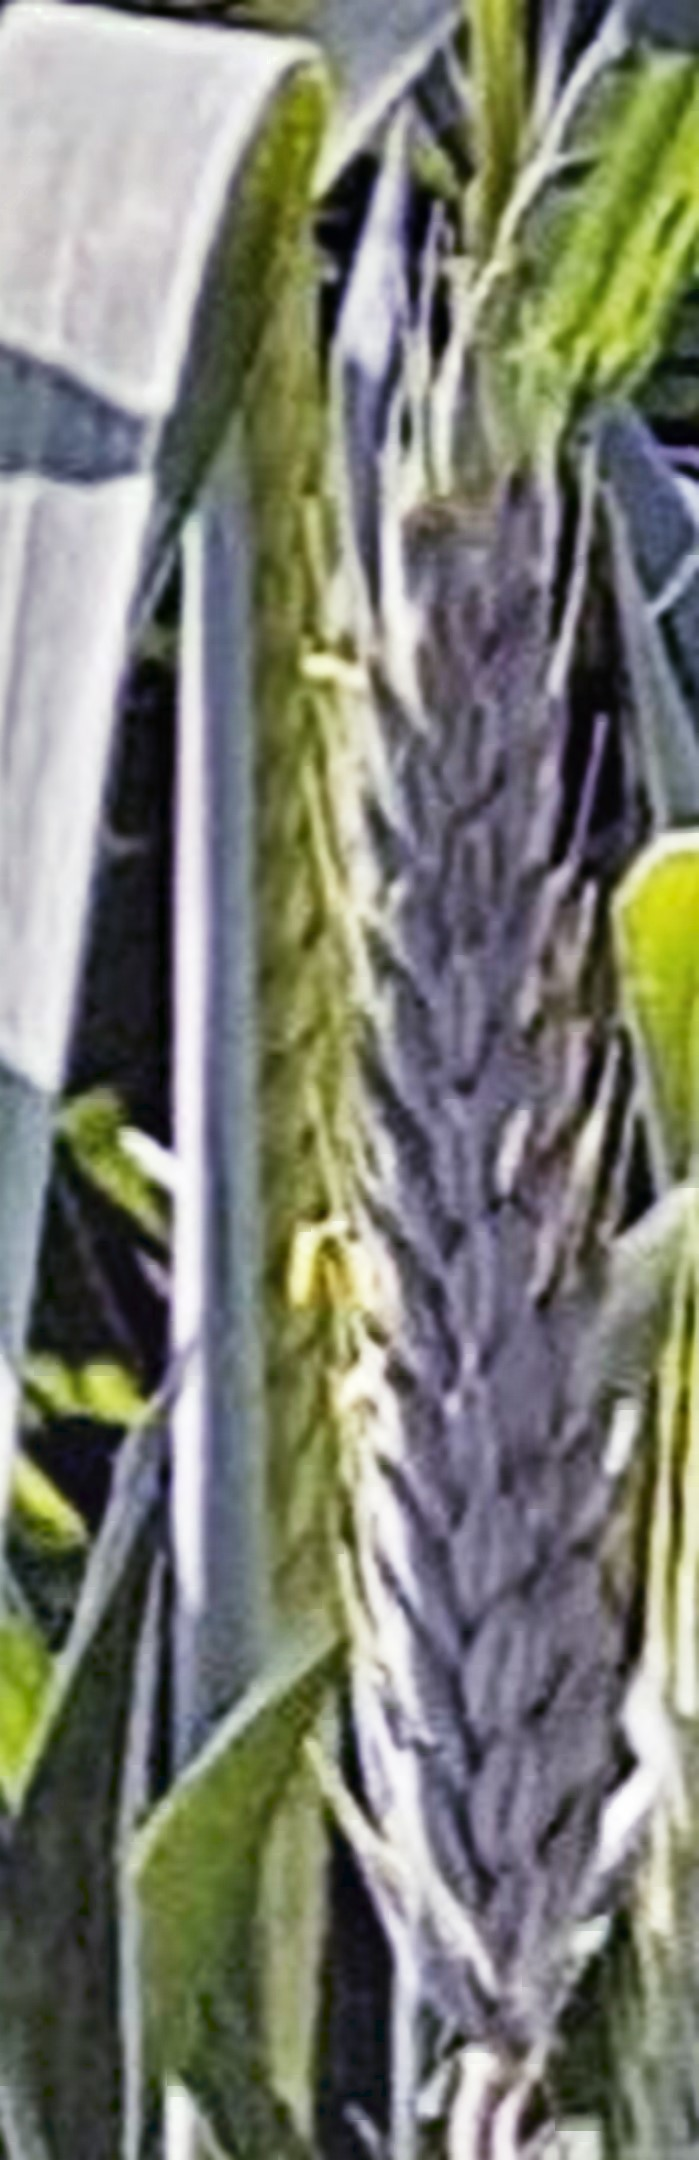Healthy Wheat: (336, 484, 699, 2031)
